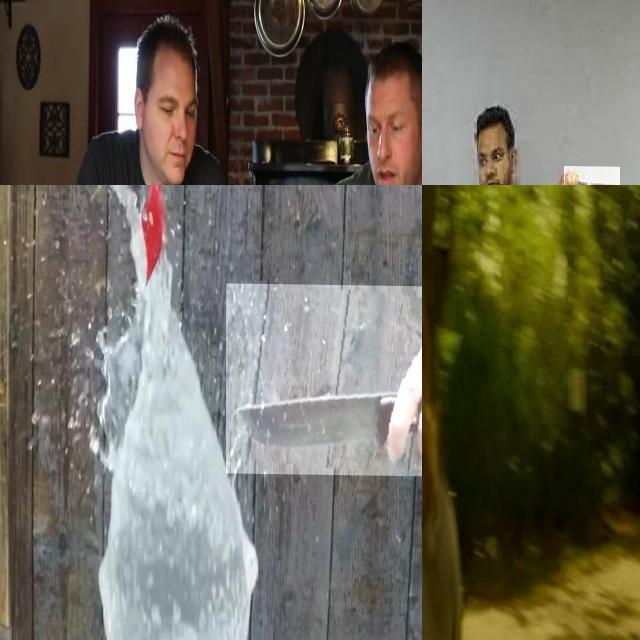-: (226, 282, 422, 475), (564, 165, 619, 185)
gun-knife-thesis - v11 Yolov5 augmented: (422, 362, 466, 500)
